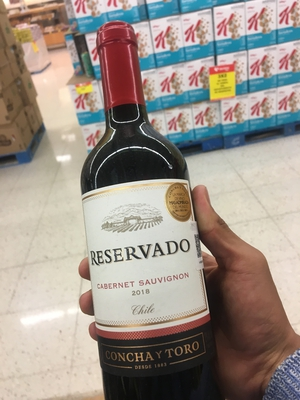reservado cabernet sauvignon: (71, 26, 214, 386)
